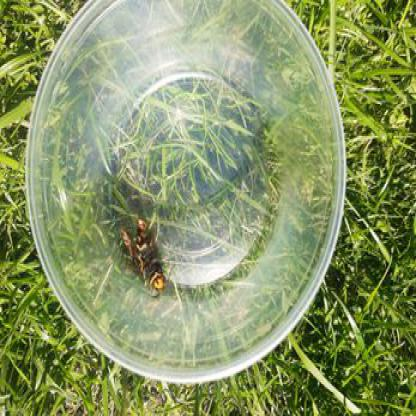Asian Hornet: (110, 210, 167, 296)
